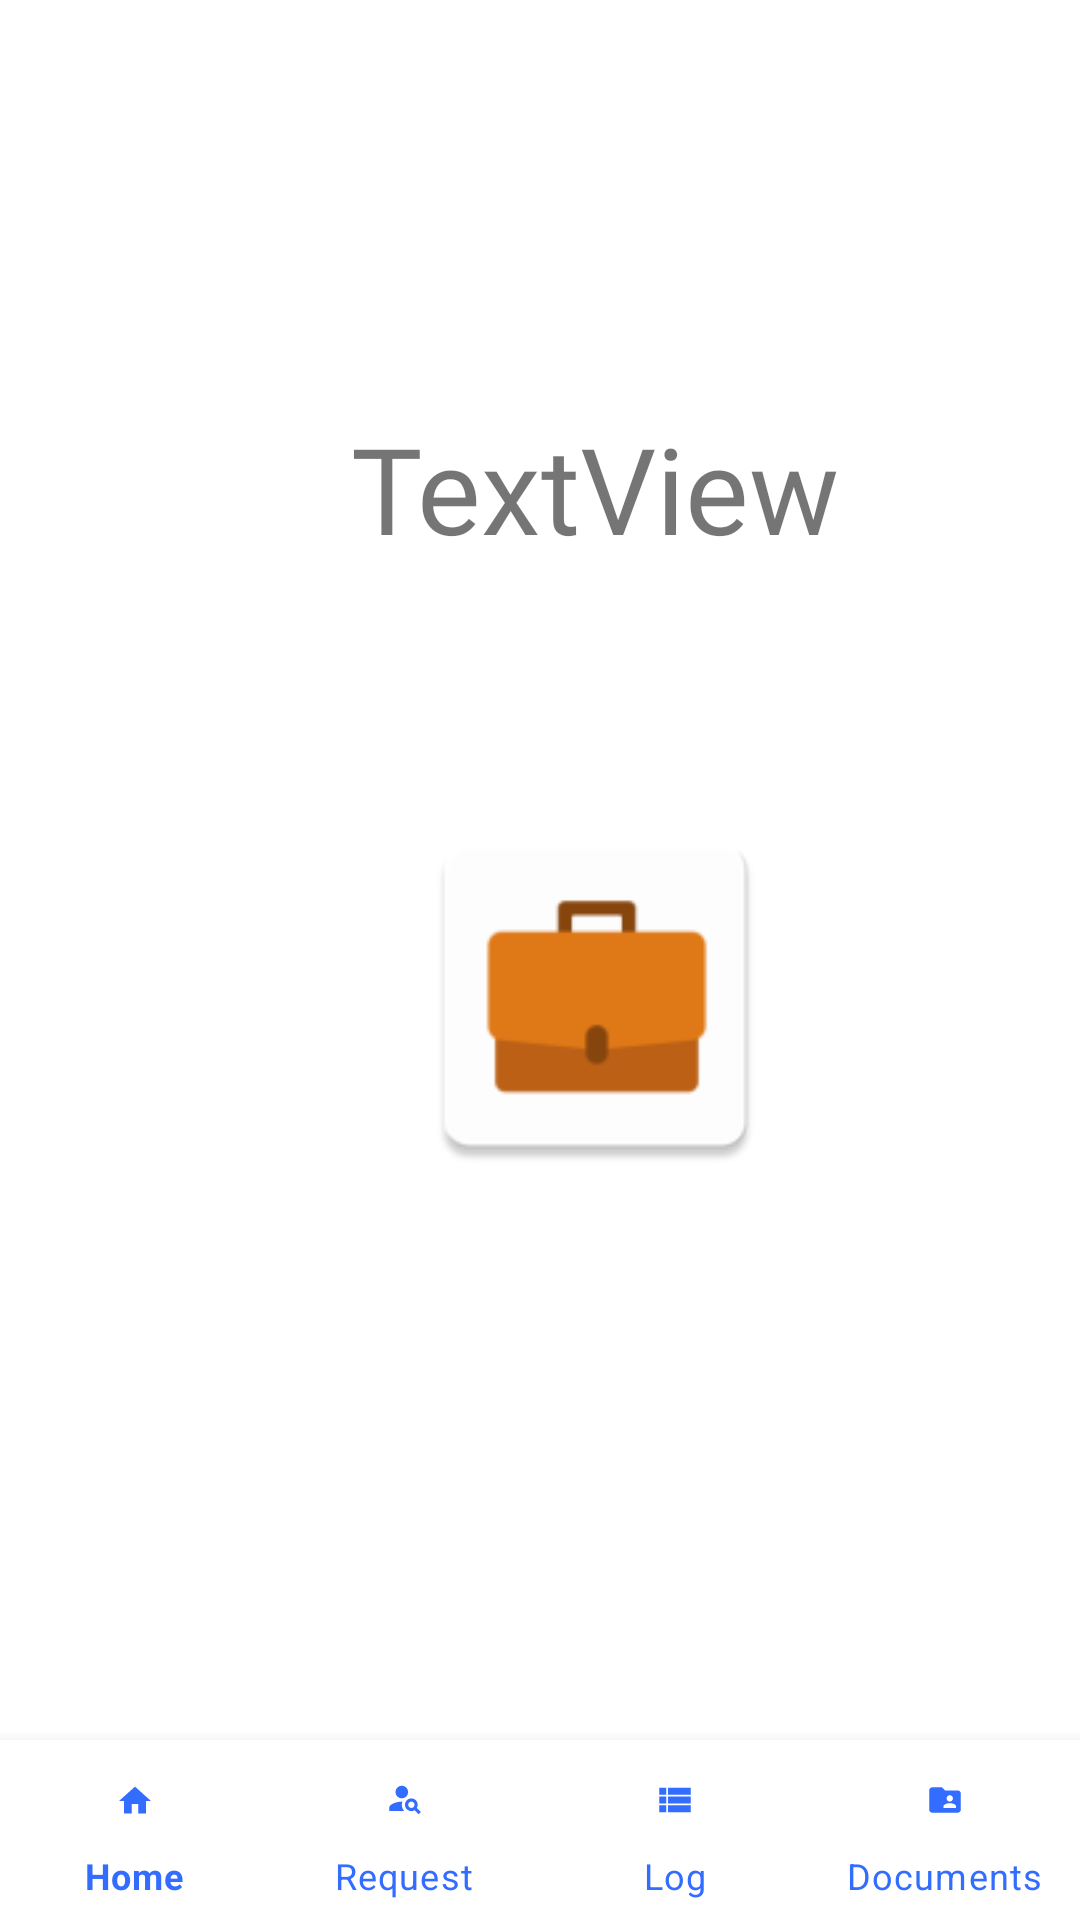

Icon click points for this 1080w x 1920h phone screenshot, format [x,y]:
briefcase: [596,1009]
